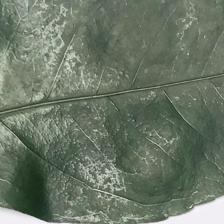healthy: (74, 3, 221, 224)
